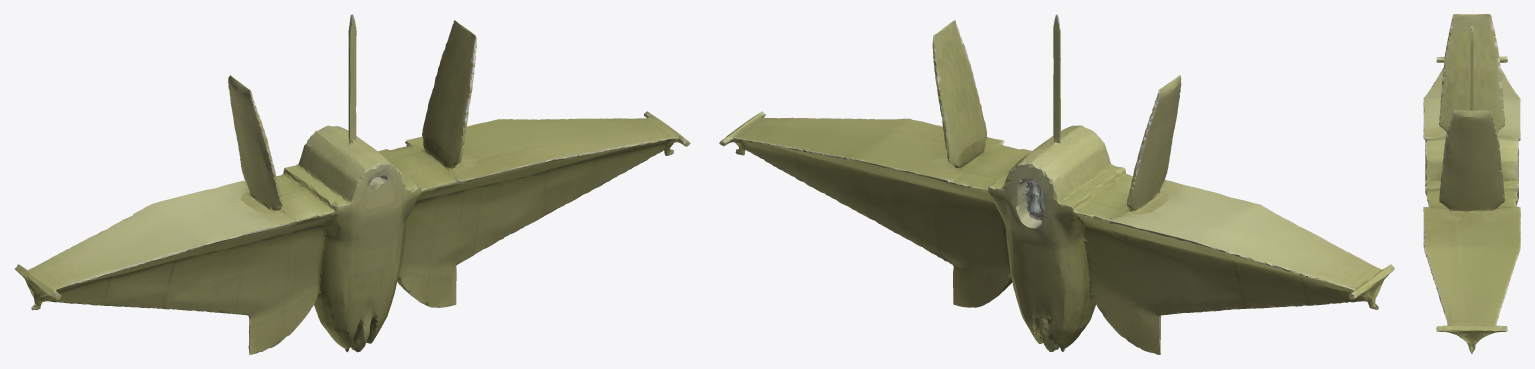
The model's file is centurion_wing_L.glb.
3 views of the same model, side by side, from view 1: azimuth 30°, elevation 25°; view 2: azimuth 150°, elevation 25°; view 3: azimuth 270°, elevation 25° (orthographic). The views are drawn at different scales.
Visible parts, largest first — view 1: centurion_wing_L; view 2: centurion_wing_L; view 3: centurion_wing_L.
Boxes of the visible parts, x1,y1,x2,y2 form: centurion_wing_L: (14, 14, 690, 354); centurion_wing_L: (719, 14, 1394, 354); centurion_wing_L: (1423, 14, 1520, 354).
Size of the model in its own units: 1.89 by 0.9463 by 0.2834.
1 material, 1 textured.
